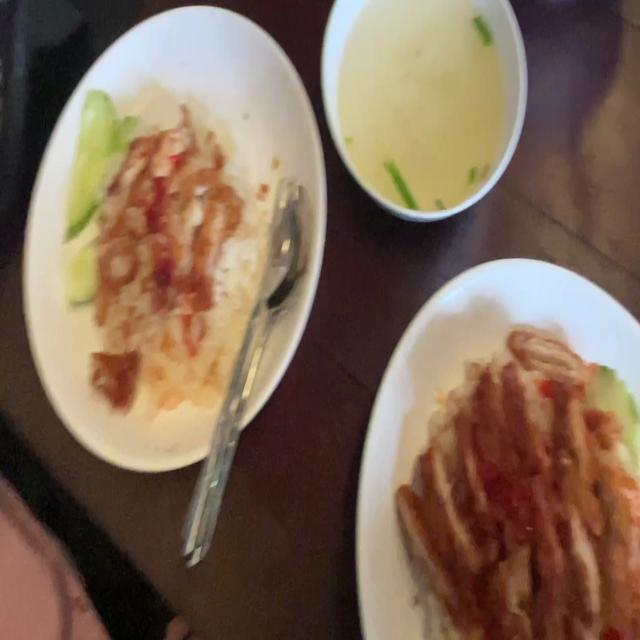chicken_rice: (400, 324, 640, 640), (69, 73, 270, 400)
cucumber: (66, 85, 139, 233), (582, 357, 640, 471), (66, 232, 102, 308)
fried_chicken: (406, 338, 640, 640), (105, 108, 227, 325), (87, 347, 138, 419)
